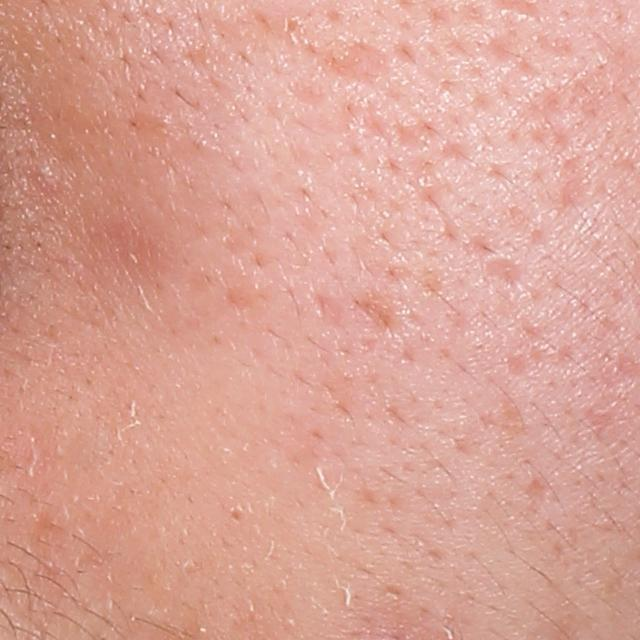atrophic_scar: (314, 39, 391, 87), (514, 82, 576, 128), (200, 6, 256, 56), (555, 151, 596, 212), (481, 28, 534, 69), (477, 250, 523, 295), (313, 291, 352, 329)
